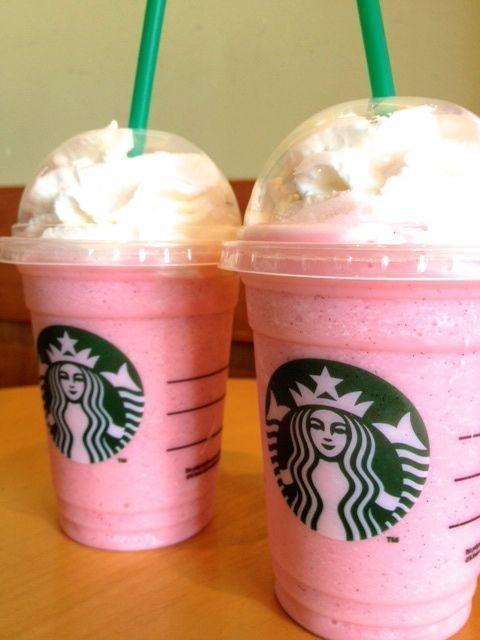cup-disposable: (220, 95, 480, 639), (1, 121, 244, 551)
